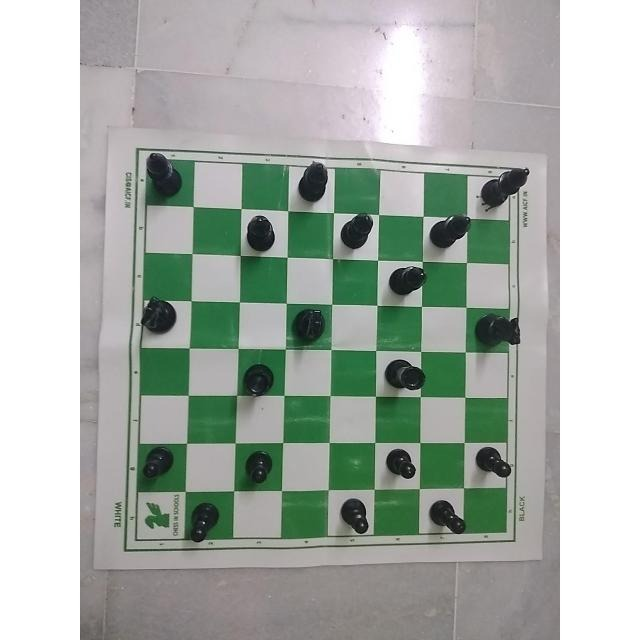black-bishop: (478, 160, 534, 212), (137, 147, 191, 199), (293, 154, 331, 212), (424, 211, 476, 253), (338, 210, 380, 254), (240, 211, 279, 258), (384, 260, 428, 300)
black-knight: (136, 294, 194, 345), (284, 302, 338, 349)
black-pawn: (175, 497, 231, 550), (467, 437, 521, 490), (376, 437, 420, 487), (132, 440, 178, 487), (337, 492, 380, 542), (426, 492, 470, 538), (240, 442, 279, 488)
black-rook: (469, 300, 534, 356), (233, 358, 283, 401), (377, 357, 427, 399)
